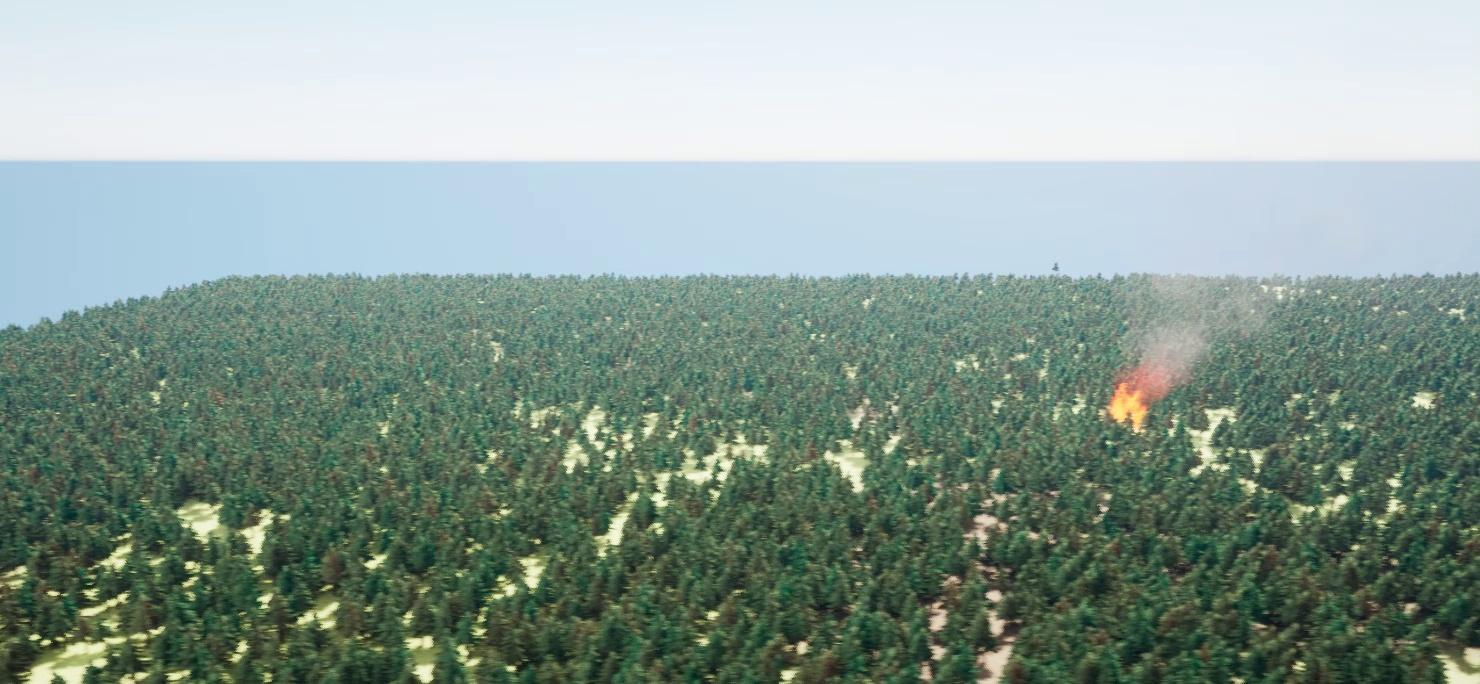fire: (1103, 380, 1144, 431)
smoke: (1130, 262, 1267, 397)
